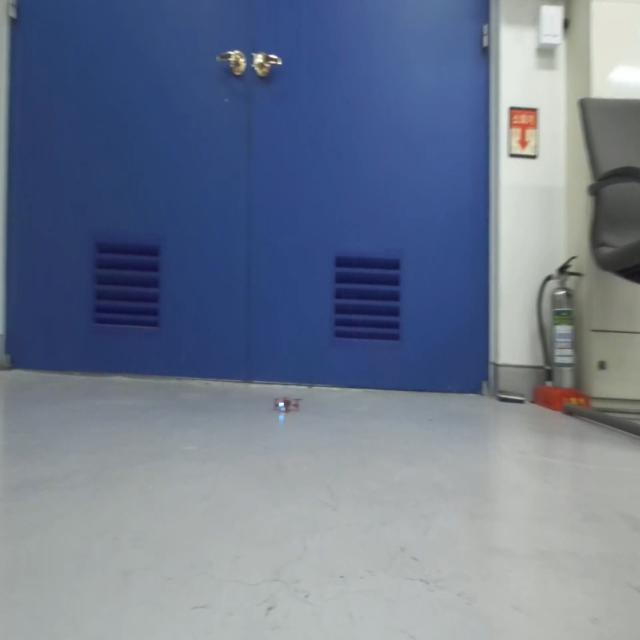crazyflie: (270, 388, 302, 418)
